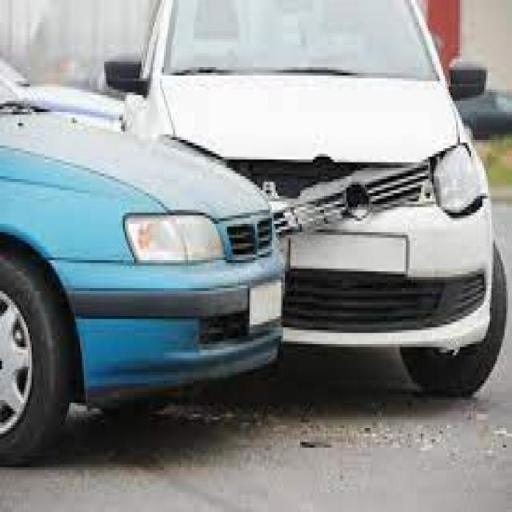小汽车撞小汽车: (14, 13, 510, 411)
